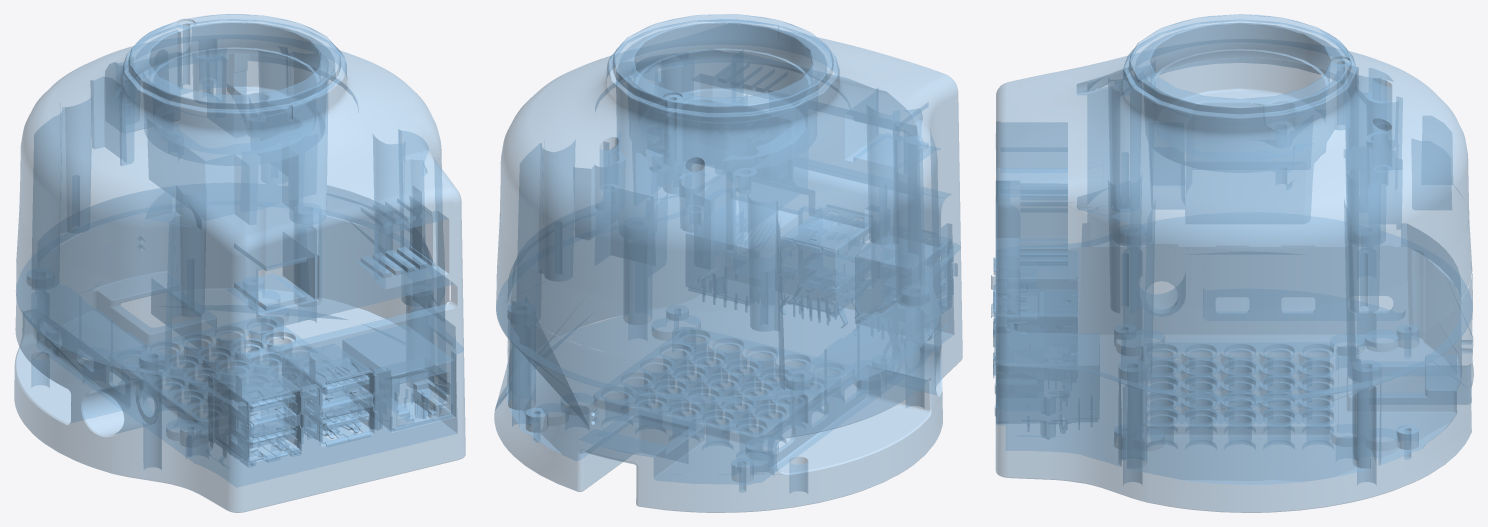
File: MyCobotPi_J0.gltf
3 renders of one model, left to right at view 1: azimuth 30°, elevation 25°; view 2: azimuth 150°, elevation 25°; view 3: azimuth 270°, elevation 25°, orthographic. The views are drawn at different scales.
Visible parts, largest first — view 1: polySurface142, polySurface143, polySurface156, polySurface149, polySurface150; view 2: polySurface142, polySurface143, polySurface150, polySurface149, polySurface156; view 3: polySurface142, polySurface143, polySurface156, polySurface150, polySurface149.
Part boxes in pixels (<box>): polySurface142: <box>15,14,463,406</box>; polySurface143: <box>14,206,465,512</box>; polySurface156: <box>342,324,455,431</box>; polySurface149: <box>206,361,307,467</box>; polySurface150: <box>282,344,378,446</box>; polySurface142: <box>496,14,960,401</box>; polySurface143: <box>494,210,962,512</box>; polySurface150: <box>781,209,871,327</box>; polySurface149: <box>854,232,957,339</box>; polySurface156: <box>685,200,798,312</box>; polySurface142: <box>995,14,1472,401</box>; polySurface143: <box>995,216,1473,512</box>; polySurface156: <box>994,333,1099,439</box>; polySurface150: <box>993,287,1077,385</box>; polySurface149: <box>991,251,1077,333</box>.
Bounding box in the file's own units: 0.0926 × 0.0809 × 0.099.
